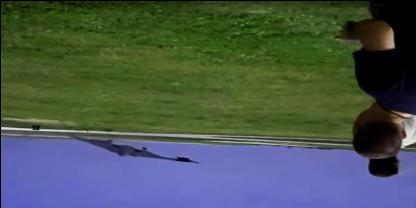B1: (67, 133, 197, 163)
